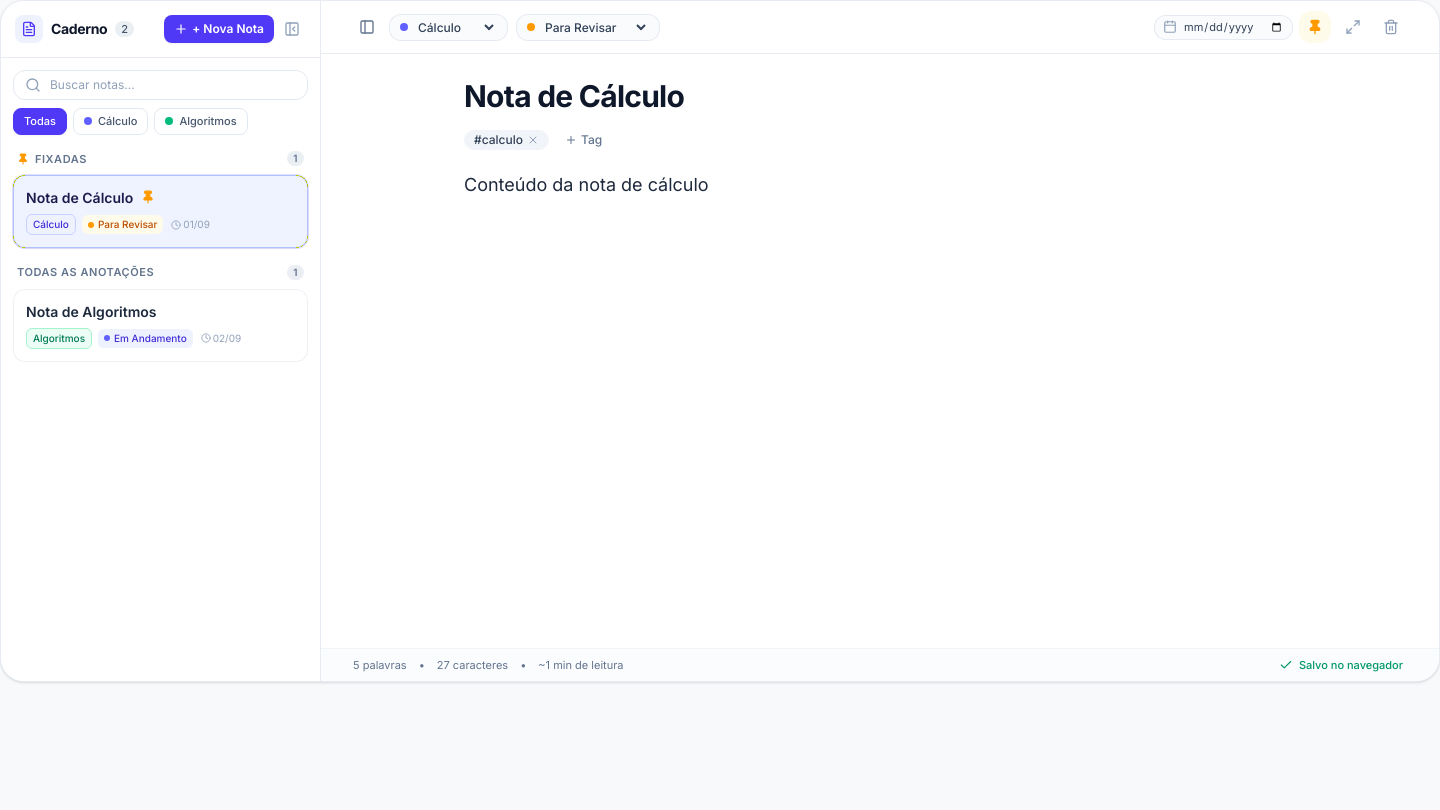
Test case: AcademicStudio › alterna o estado da sidebar (recolher e expandir)
The image size is (1440, 810).
Expected: the heading "Caderno" is shown, [51,19,107,39]
Click the button named "Recolher barra lateral".
click(292, 29)  # box [278,15,306,43]
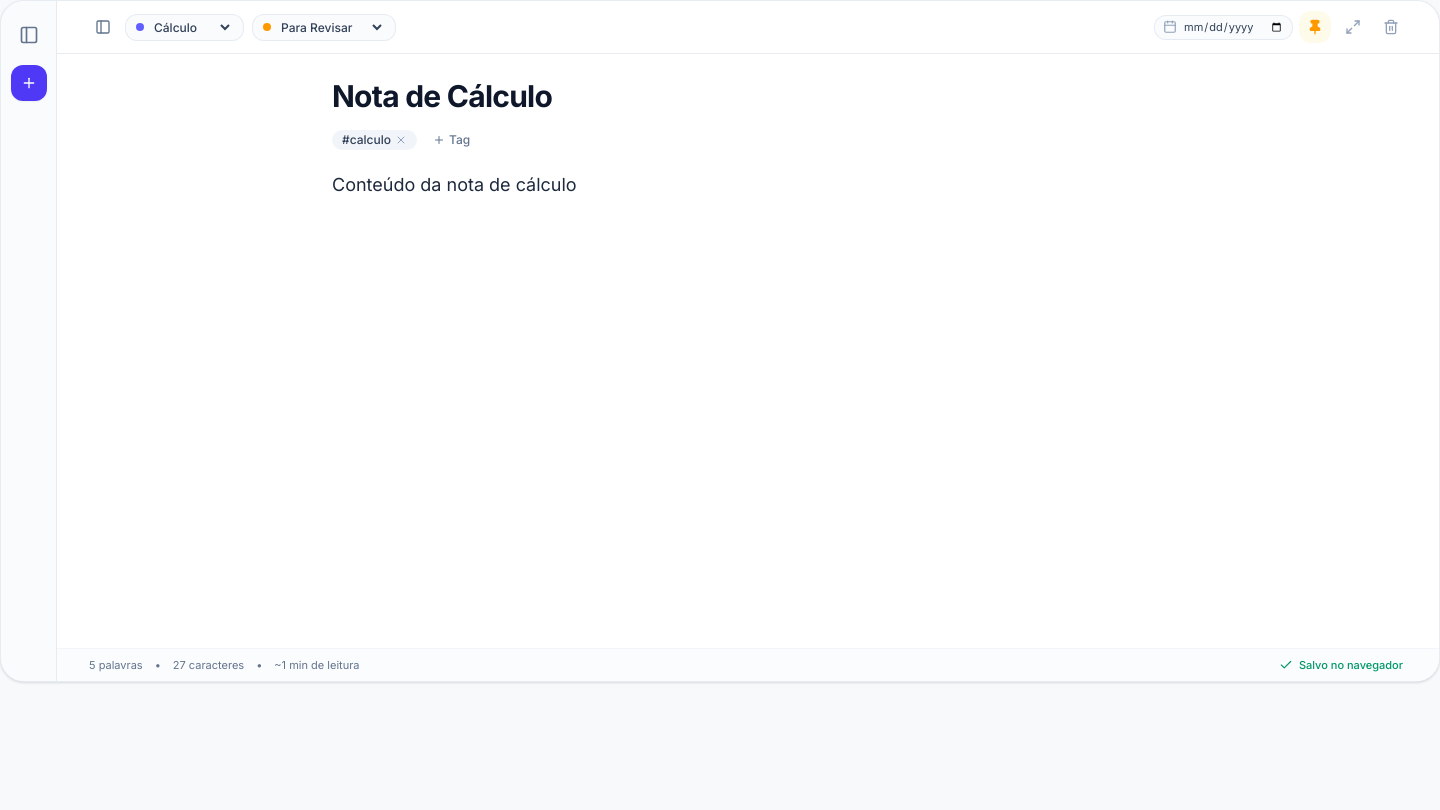
Expected: the heading "Caderno" is gone
Expected: the button named "Expandir barra lateral" is shown
Expand again
Click the button named "Expandir barra lateral".
click(28, 35)  # box [10,17,46,53]
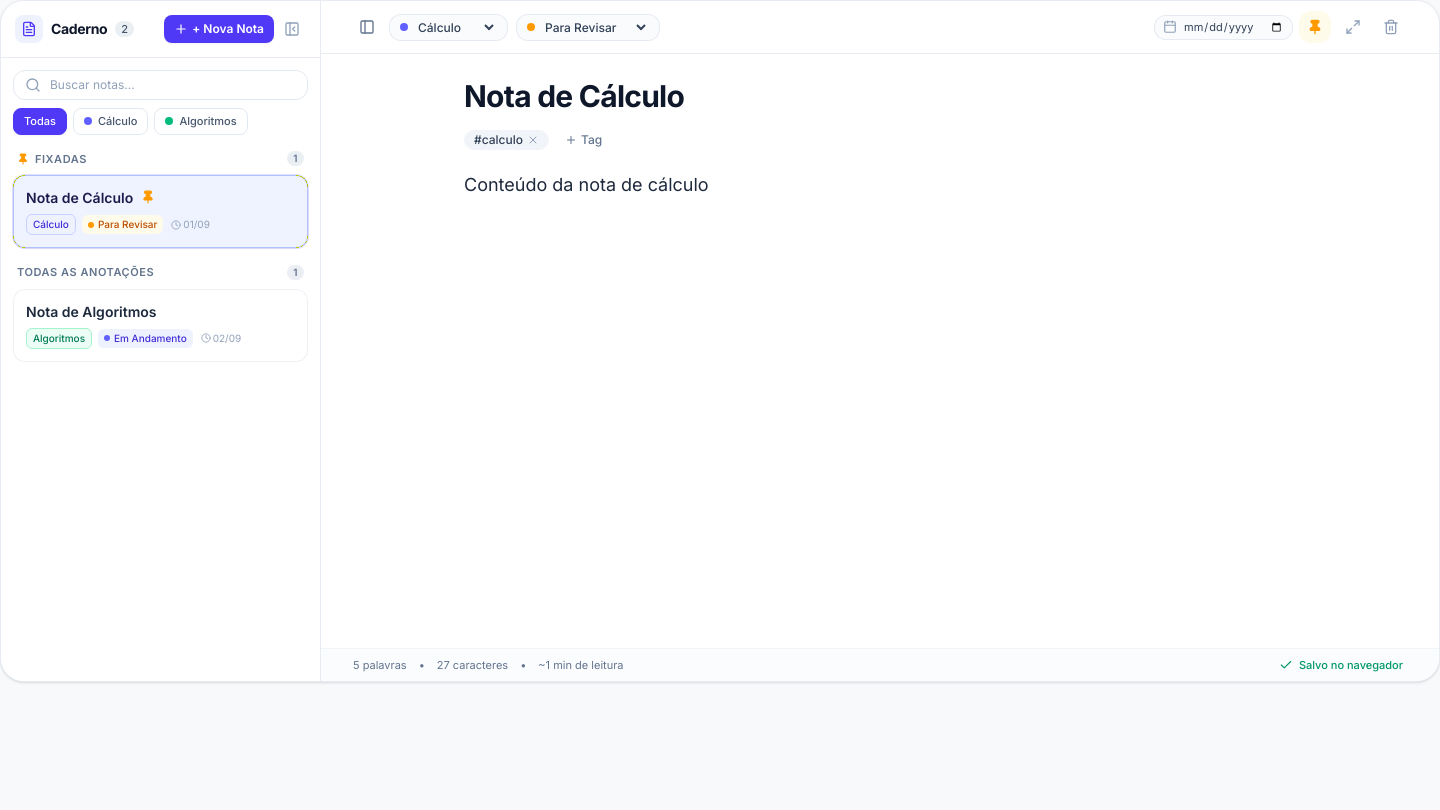
Expected: the heading "Caderno" is shown, [51,19,107,39]
